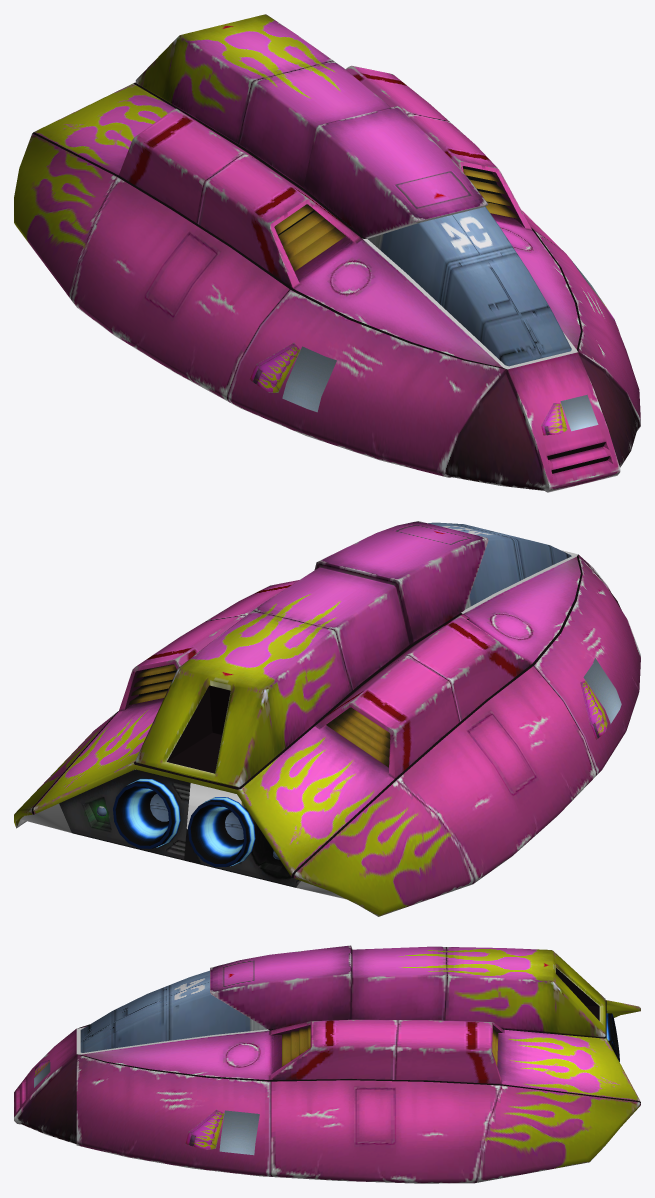
File: fireStingray.obj
3 renders of one model, top to bottom at view 1: azimuth 30°, elevation 25°; view 2: azimuth 150°, elevation 25°; view 3: azimuth 270°, elevation 25°, orthographic. The views are drawn at different scales.
Visible parts, largest first — view 1: 05_firestingray_a_gxmat8, 05_firestingray_a_gxmat2, 05_firestingray_a_gxmat13, 05_firestingray_a_gxmat18, 05_firestingray_a_gxmat4, 05_firestingray_a_gxmat19, 05_firestingray_a_gxmat14; view 2: 05_firestingray_a_gxmat8, 05_firestingray_a_gxmat16, 05_firestingray_a_gxmat7, 05_firestingray_a_gxmat4, 05_firestingray_a_gxmat2, 05_firestingray_a_gxmat13, 05_firestingray_a_gxmat18, 05_firestingray_a_gxmat6, 05_firestingray_a_gxmat19, 05_firestingray_a_gxmat17, 05_firestingray_a_gxmat5; view 3: 05_firestingray_a_gxmat8, 05_firestingray_a_gxmat2, 05_firestingray_a_gxmat4, 05_firestingray_a_gxmat18, 05_firestingray_a_gxmat19, 05_firestingray_a_gxmat13, 05_firestingray_a_gxmat14, 05_firestingray_a_gxmat16.
Part boxes in pixels (<box>): 05_firestingray_a_gxmat8: <box>14,14,640,492</box>; 05_firestingray_a_gxmat2: <box>368,207,571,366</box>; 05_firestingray_a_gxmat13: <box>274,168,517,271</box>; 05_firestingray_a_gxmat18: <box>282,260,604,431</box>; 05_firestingray_a_gxmat4: <box>32,82,582,369</box>; 05_firestingray_a_gxmat19: <box>249,281,619,435</box>; 05_firestingray_a_gxmat14: <box>362,204,577,369</box>; 05_firestingray_a_gxmat8: <box>14,521,640,916</box>; 05_firestingray_a_gxmat16: <box>113,778,255,867</box>; 05_firestingray_a_gxmat7: <box>59,769,300,887</box>; 05_firestingray_a_gxmat4: <box>32,554,582,877</box>; 05_firestingray_a_gxmat2: <box>428,522,571,609</box>; 05_firestingray_a_gxmat13: <box>128,664,390,767</box>; 05_firestingray_a_gxmat18: <box>583,658,621,723</box>; 05_firestingray_a_gxmat6: <box>16,803,346,899</box>; 05_firestingray_a_gxmat19: <box>580,680,607,739</box>; 05_firestingray_a_gxmat17: <box>150,794,243,839</box>; 05_firestingray_a_gxmat5: <box>135,769,241,829</box>; 05_firestingray_a_gxmat8: <box>14,945,640,1183</box>; 05_firestingray_a_gxmat2: <box>80,970,267,1052</box>; 05_firestingray_a_gxmat4: <box>77,968,640,1104</box>; 05_firestingray_a_gxmat18: <box>34,1062,259,1155</box>; 05_firestingray_a_gxmat19: <box>34,1059,224,1149</box>; 05_firestingray_a_gxmat13: <box>282,1026,498,1066</box>; 05_firestingray_a_gxmat14: <box>76,994,269,1054</box>; 05_firestingray_a_gxmat16: <box>606,1013,619,1061</box>.
Bounding box in the file's own units: 2.42 × 1.28 × 4.37.
